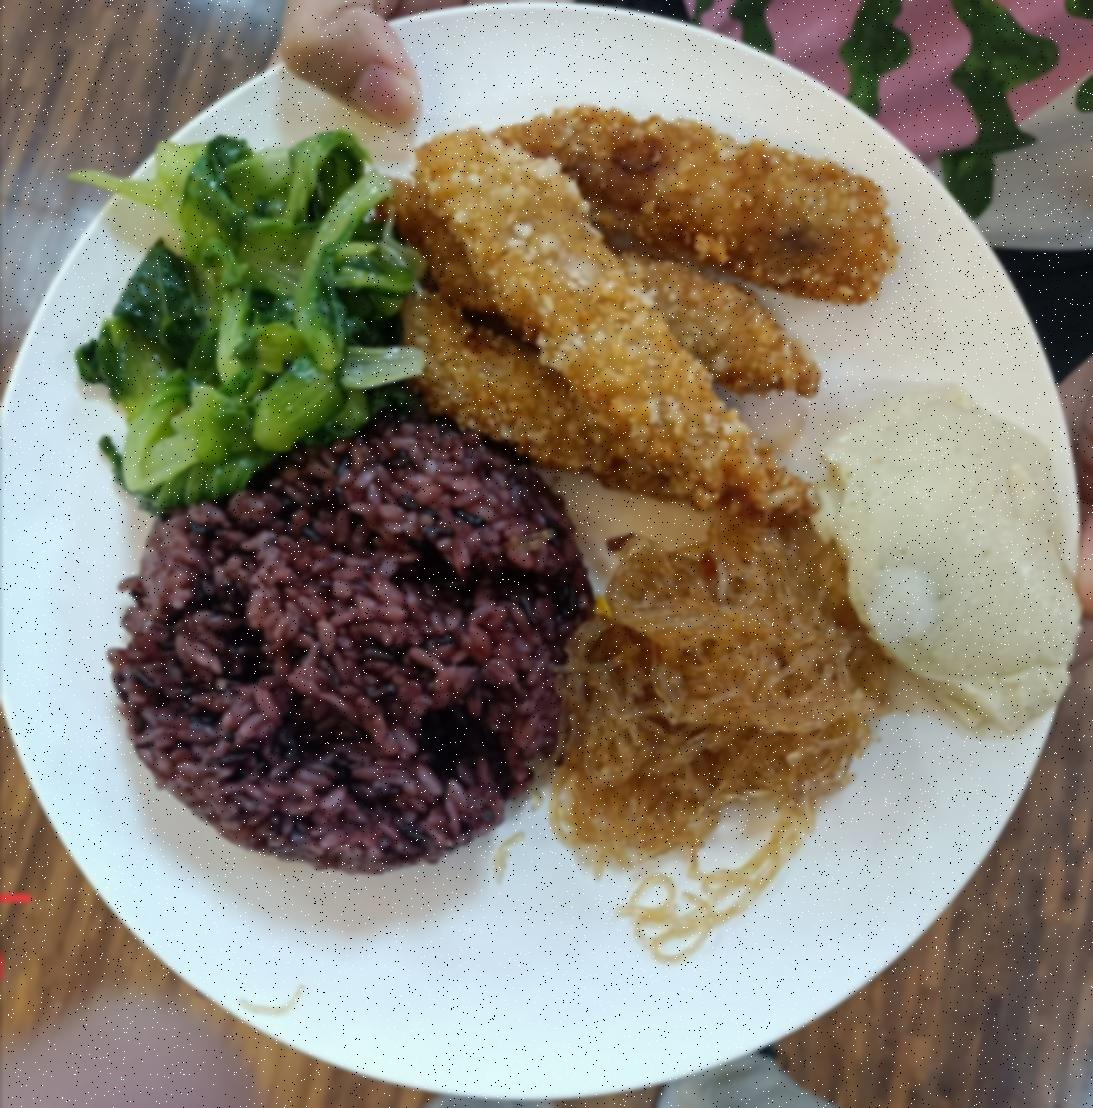fried spanish mackerel: (411, 83, 893, 495)
plate: (10, 18, 1071, 1108)
purple rice: (126, 419, 566, 893)
side dish: (571, 507, 858, 878), (103, 160, 397, 470), (827, 400, 1076, 721)
